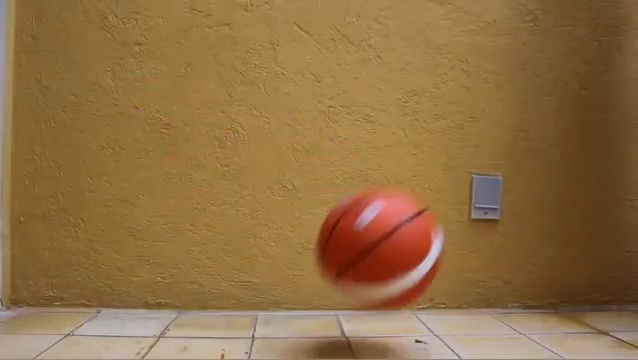ball: (316, 185, 445, 314)
